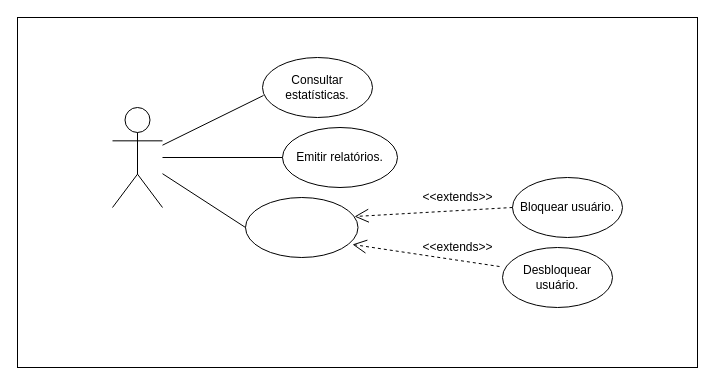
This 715x385 diagram has some shape labels left out. The centre of each missing label's shape, as x and y in pixels:
Administrador: pixel 137 157
Pesquisar usuários.: pixel 301 227
